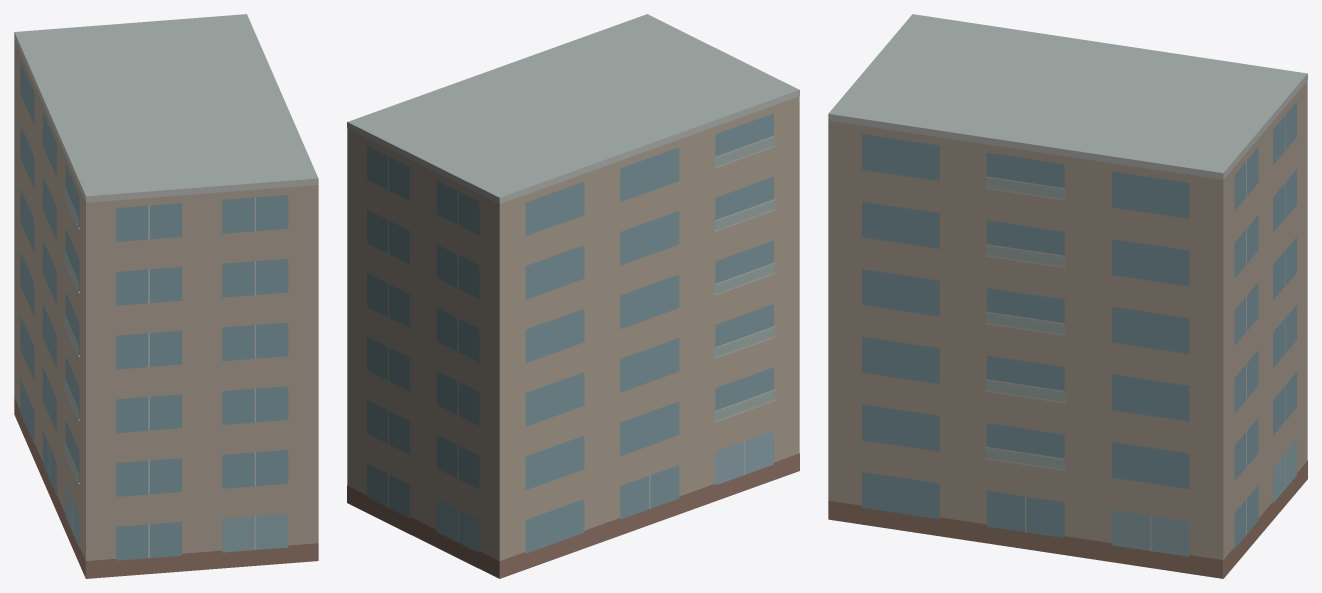
Rendered from survey-upis-32850283.glb.
3 renders of one model, left to right at view 1: azimuth 30°, elevation 25°; view 2: azimuth 150°, elevation 25°; view 3: azimuth 270°, elevation 25°, orthographic. The views are drawn at different scales.
Parts seen in each view (by area): view 1: survey-upis-32850283.tmp; view 2: survey-upis-32850283.tmp; view 3: survey-upis-32850283.tmp.
Part boxes in pixels (x1,y1,x2,y2): survey-upis-32850283.tmp: [14, 14, 318, 578]; survey-upis-32850283.tmp: [347, 14, 799, 578]; survey-upis-32850283.tmp: [828, 14, 1307, 578].
Bounding box in the file's own units: 12.26 × 14.55 × 15.6.
